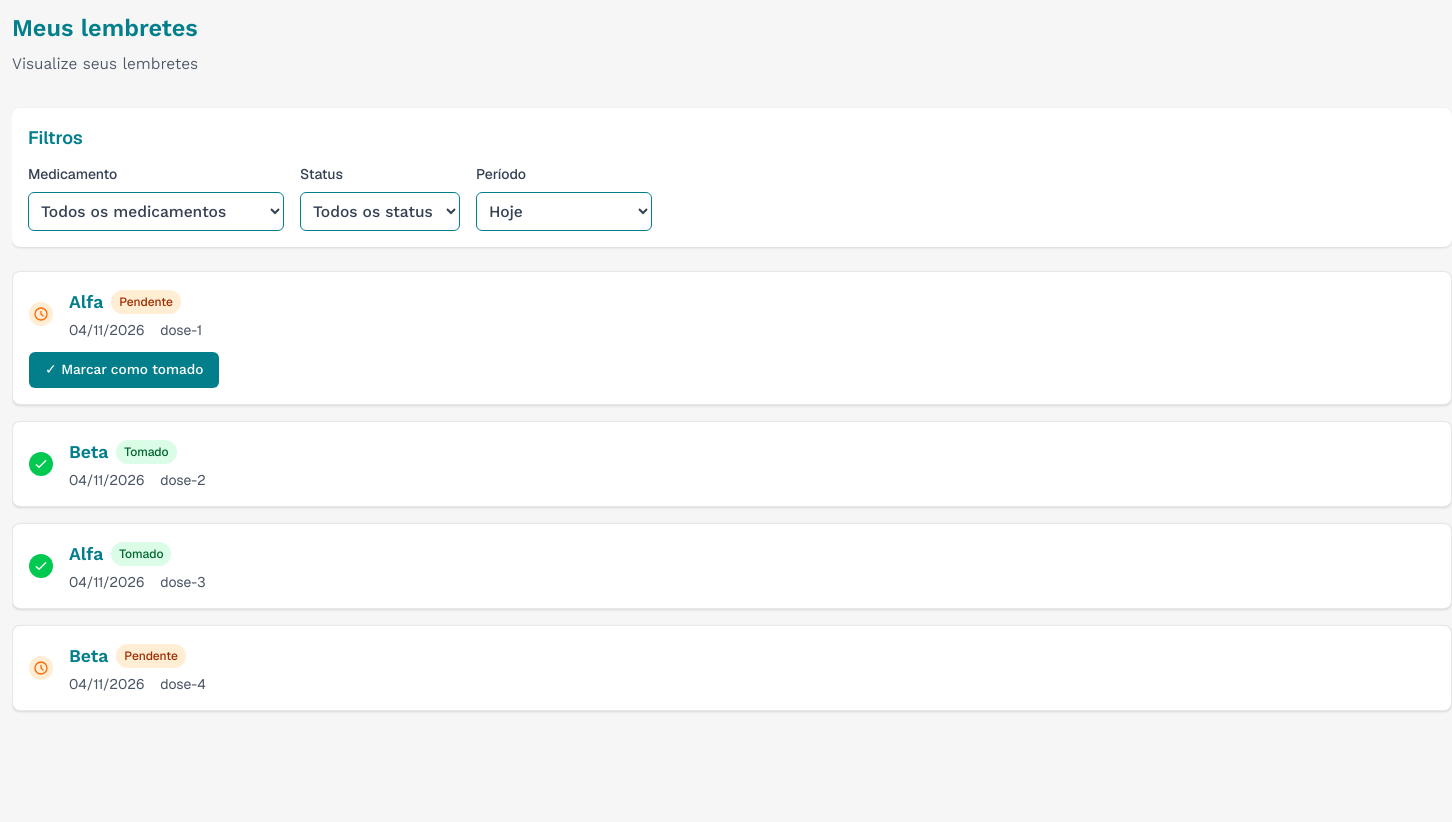
Scenario: IT-07 TEST-01 TEST-02: lista, filtros e marcar como tomado › IT-07 TEST-02: Marcar como tomado envia PUT dose/<id> com {tomado:true}, recarrega e muda o estado
Expected: the heading "Filtros" is shown, [28,126,83,149]
Expected: the 1st text "Pendente" is shown, [111,290,181,314]
Step 1. Click the button "✓ Marcar como tomado" → click(124, 370), box [29,352,219,388]
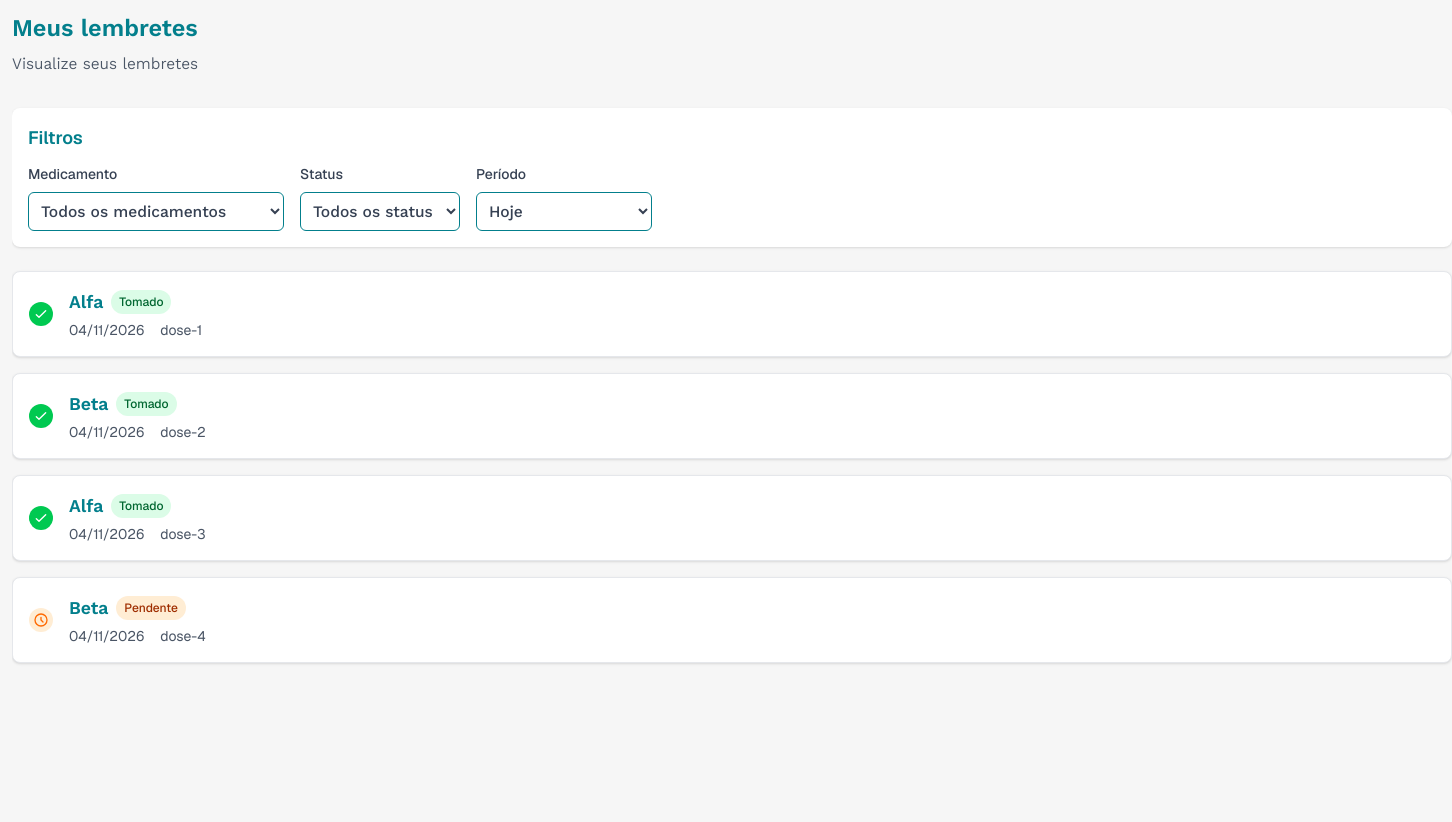
Expected: the 1st text "Tomado" is shown, [111,290,172,314]
Expected: the button "Marcar como tomado" is gone
